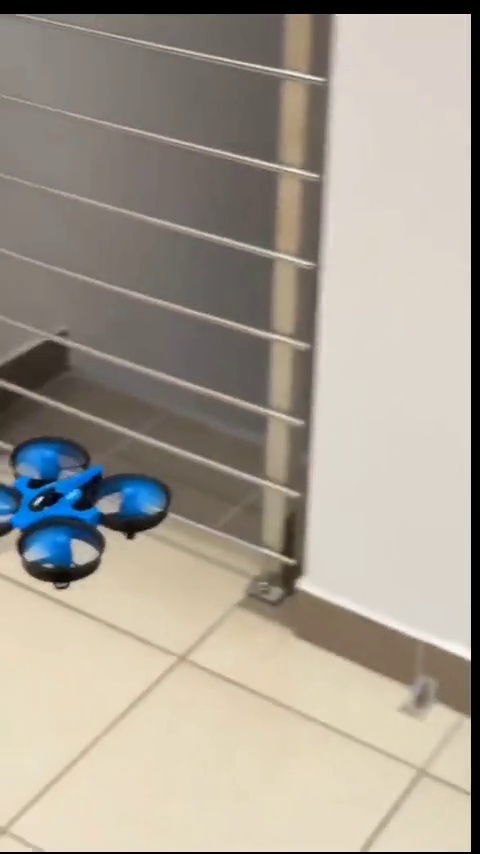drone: (0, 438, 169, 573)
